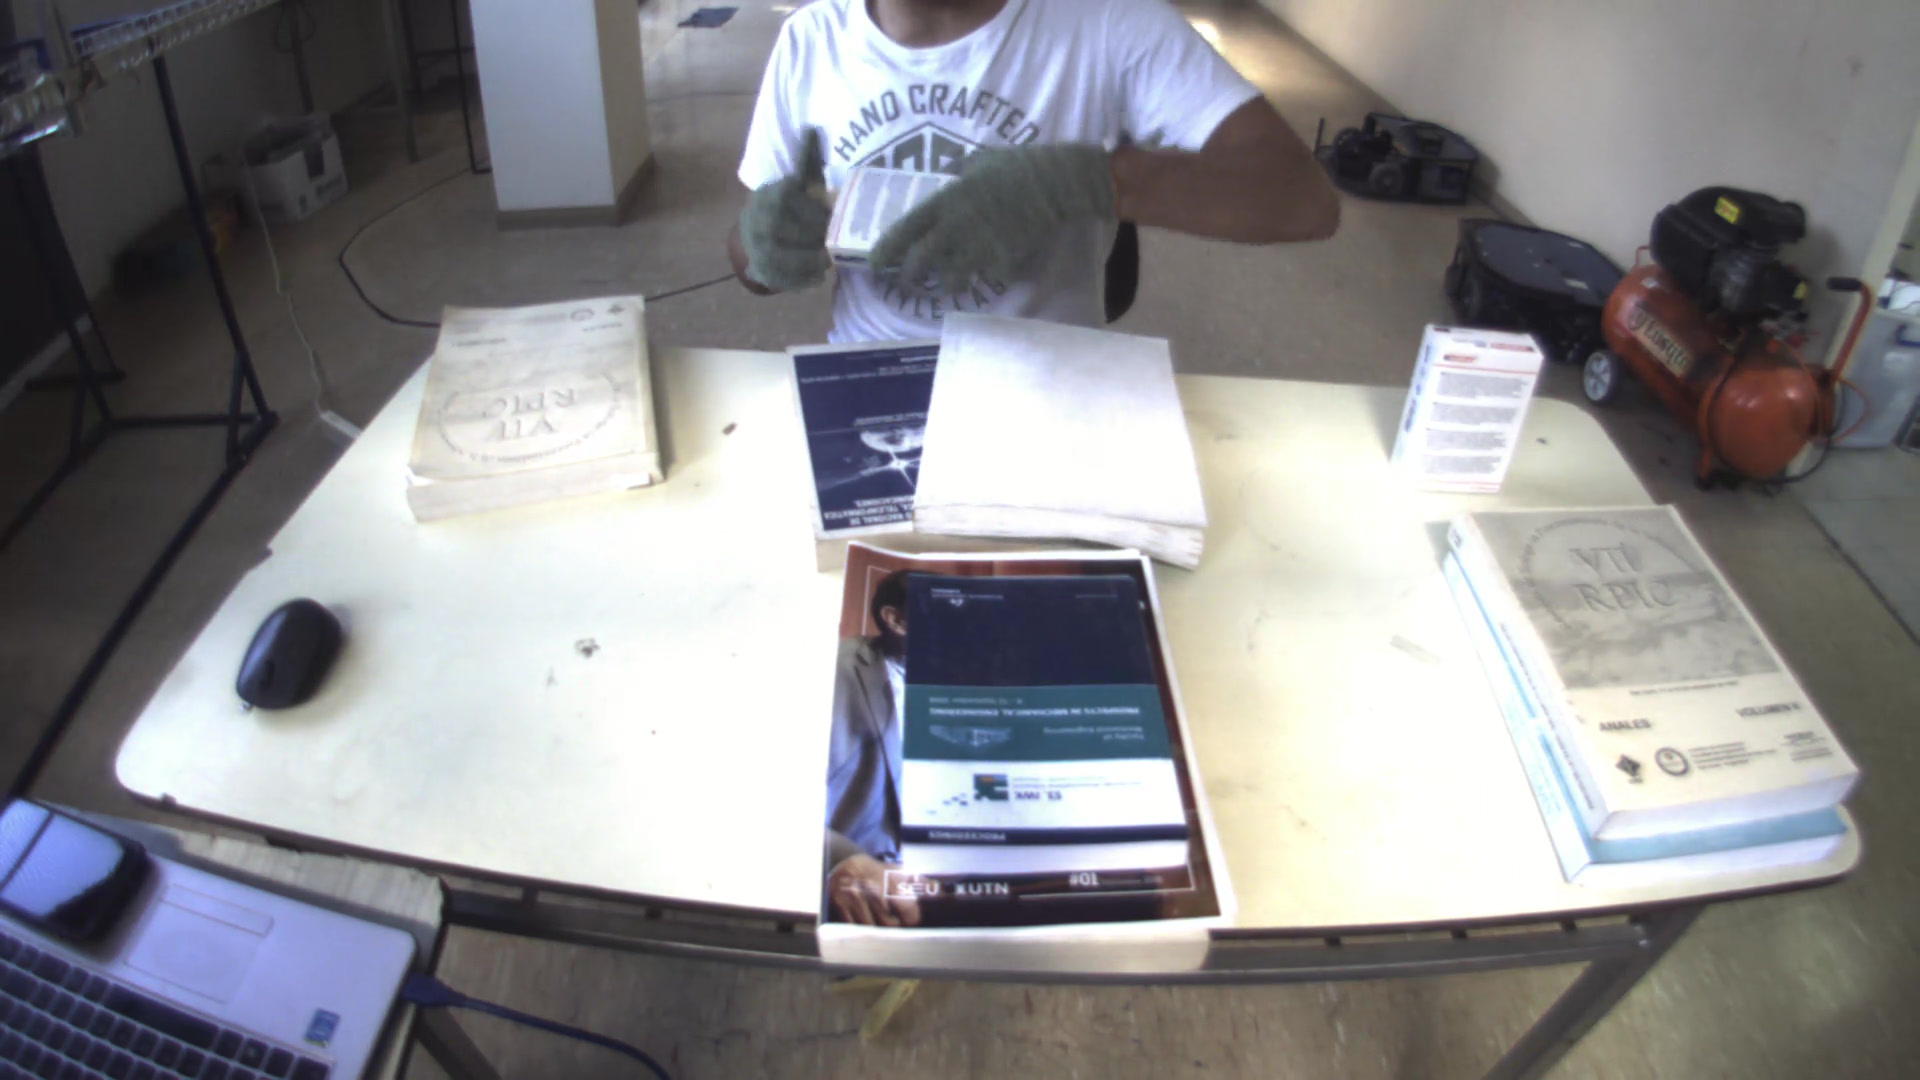hand: (855, 131, 1120, 302), (720, 138, 839, 295)
